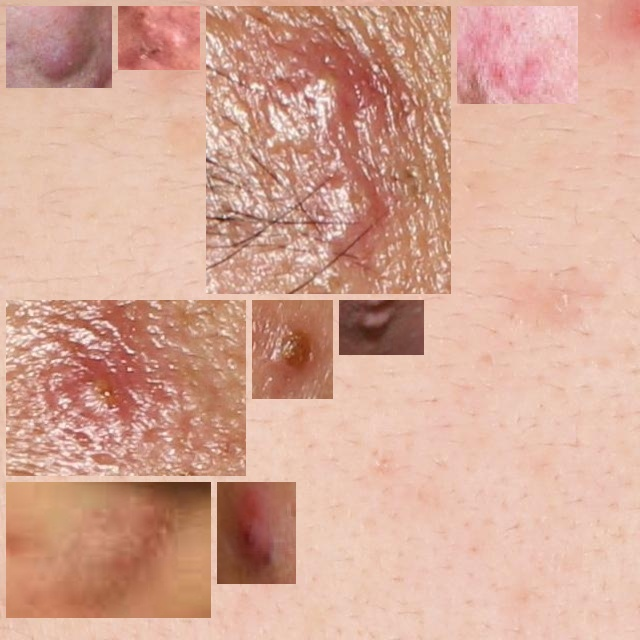nodule: (214, 14, 443, 286), (14, 300, 238, 468), (14, 490, 203, 610), (465, 14, 570, 96), (14, 14, 104, 80), (225, 490, 288, 576), (260, 308, 325, 391), (126, 14, 192, 62), (347, 308, 416, 347)
